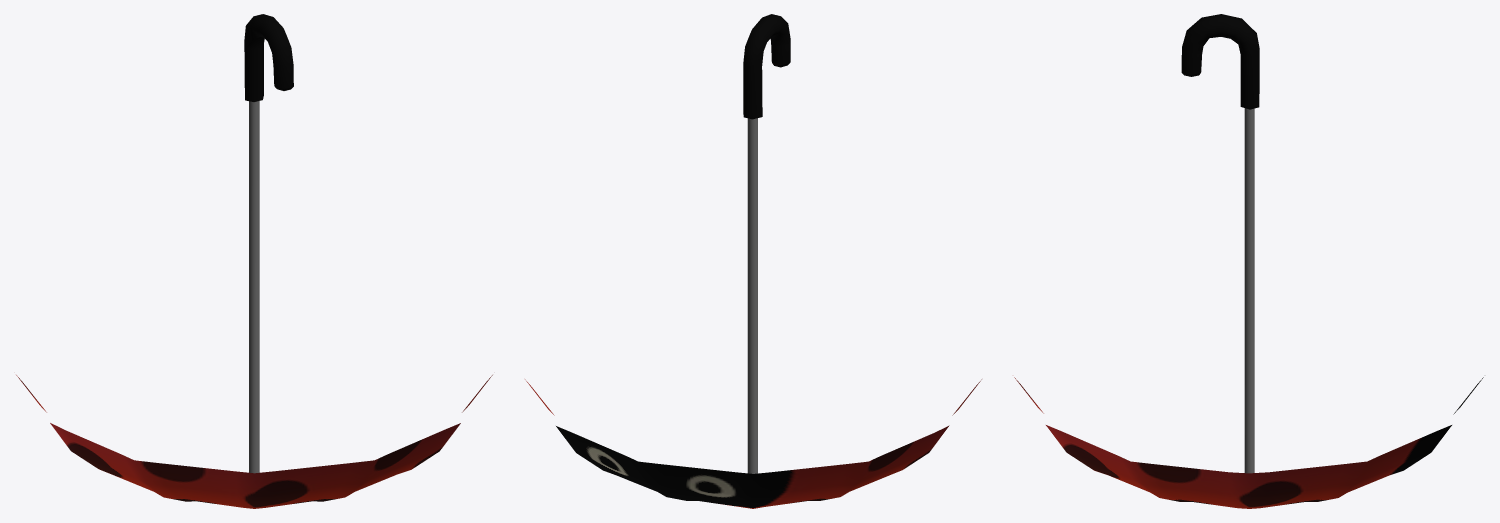
The model's file is UmbrellaLadybug0.glb.
3 views of the same model, side by side, from view 1: azimuth 30°, elevation 25°; view 2: azimuth 150°, elevation 25°; view 3: azimuth 270°, elevation 25° (orthographic). The views are drawn at different scales.
Visible parts, largest first — view 1: Pole__mUmbrella; view 2: Pole__mUmbrella; view 3: Pole__mUmbrella.
Boxes of the visible parts, x1,y1,x2,y2 form: Pole__mUmbrella: [16, 14, 492, 508]; Pole__mUmbrella: [525, 14, 981, 508]; Pole__mUmbrella: [1014, 14, 1483, 508].
Size of the model in its own units: 14.29 by 15.77 by 14.51.
1 material, 1 textured.
